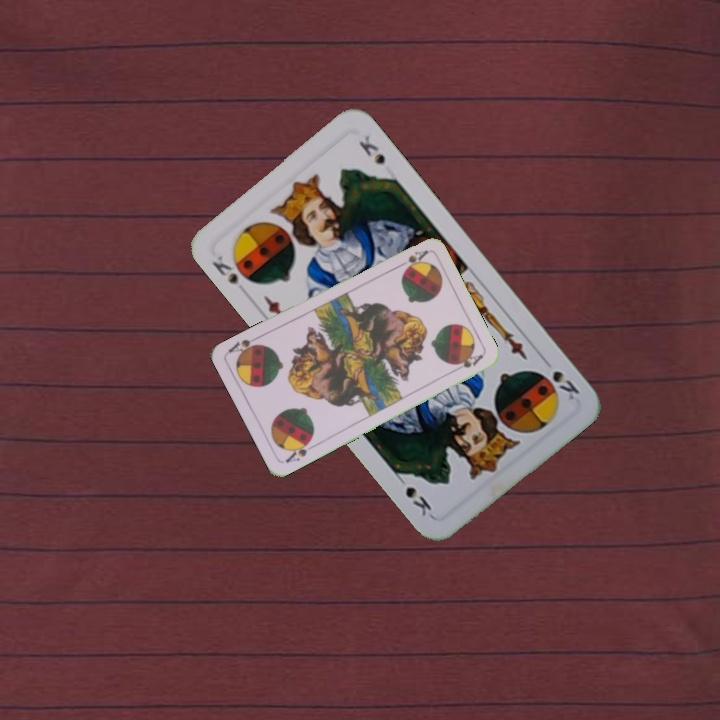SA: (281, 435, 318, 465), (392, 246, 430, 272)
SK: (538, 353, 583, 403), (208, 251, 241, 287)
